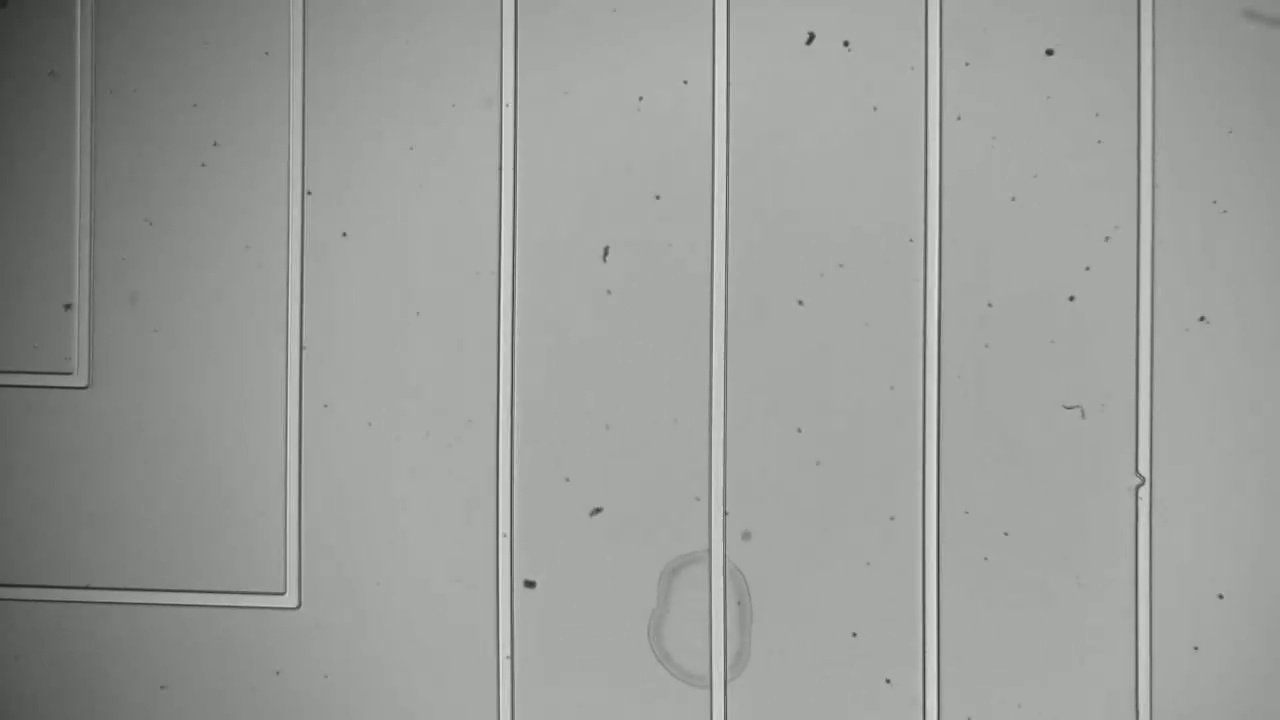edge_bite: (1126, 465, 1163, 492)
